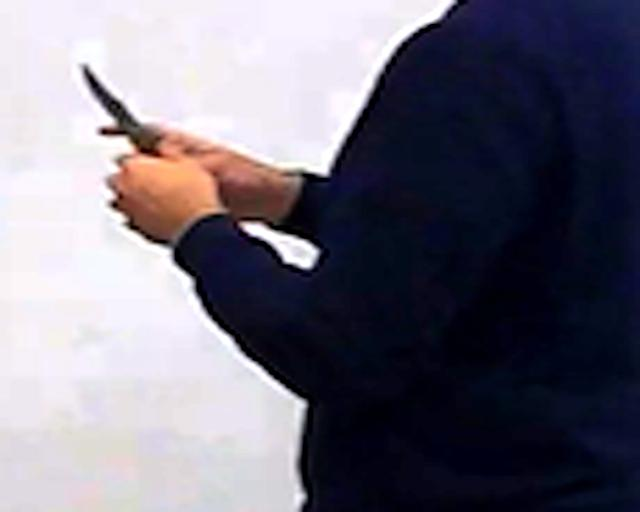pocket-knife: (75, 54, 193, 194)
